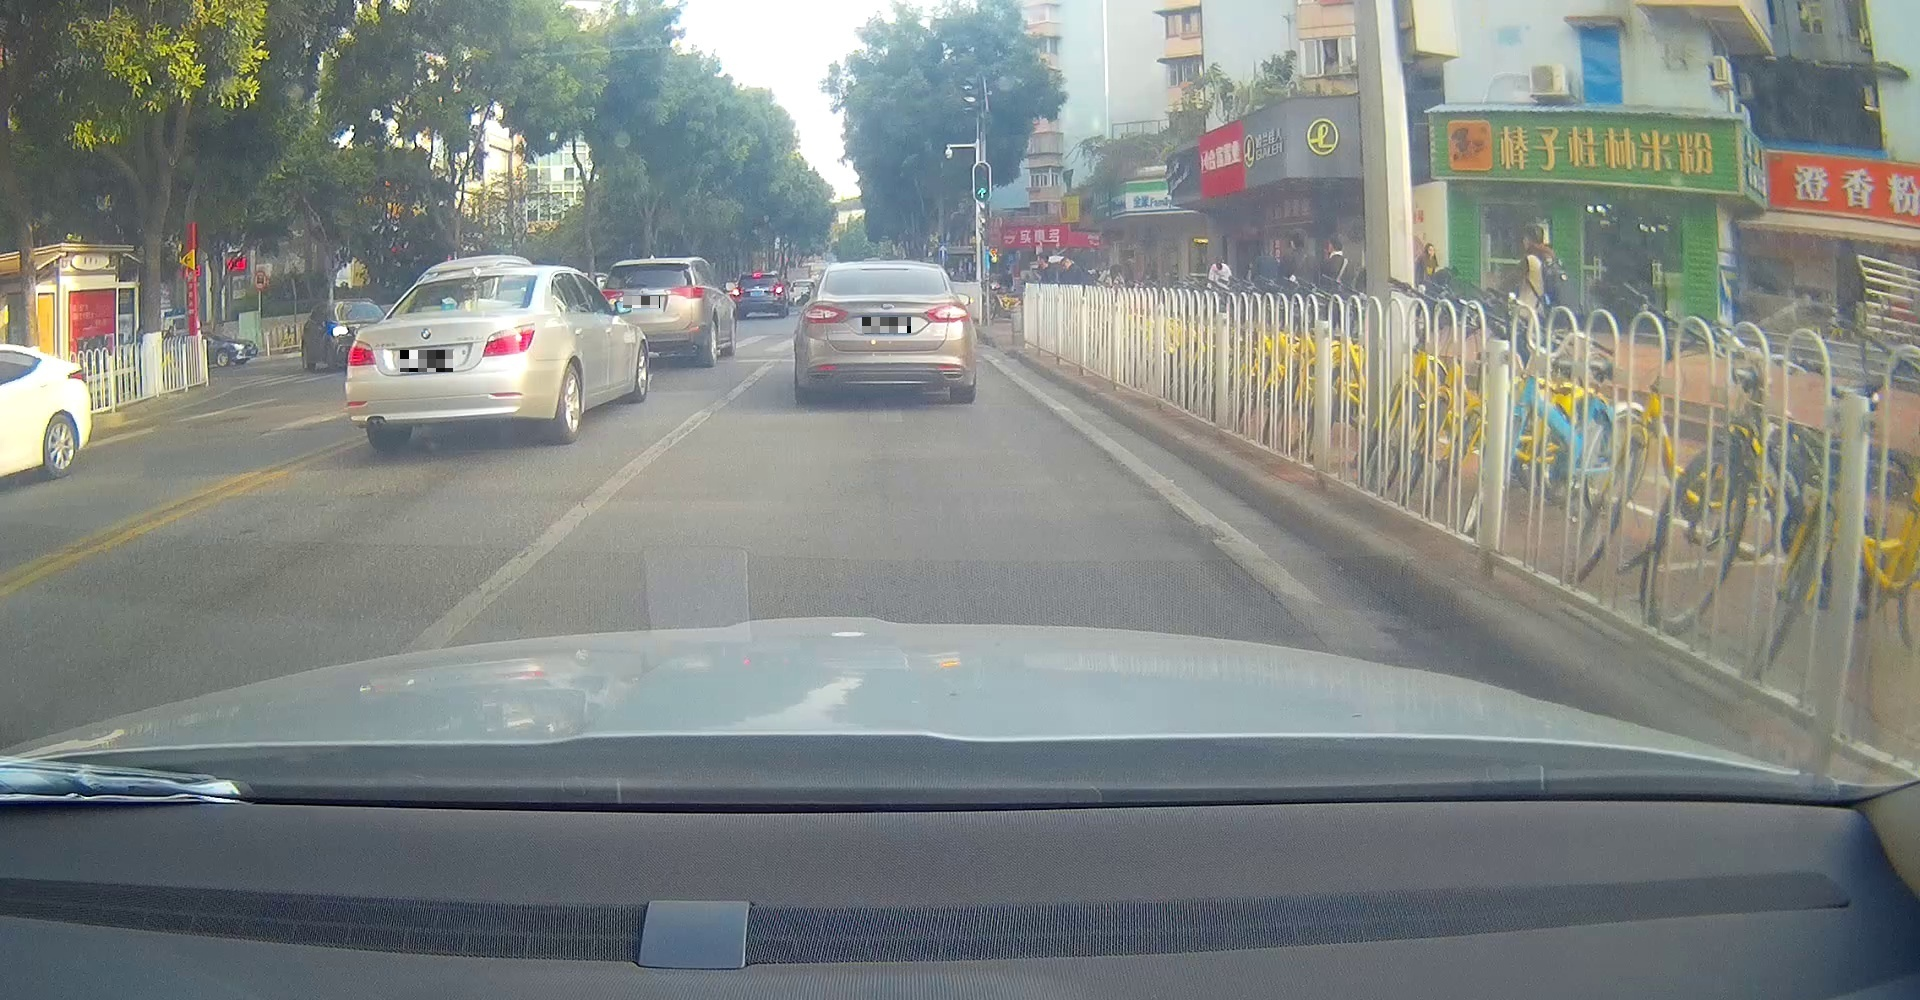L_light: (801, 305, 848, 325), (345, 339, 378, 365), (601, 291, 622, 303), (730, 286, 744, 298)
R_light: (481, 322, 537, 357), (924, 303, 970, 322), (665, 286, 703, 299), (772, 283, 785, 296)
T_light: (862, 264, 908, 272), (460, 274, 491, 280), (637, 261, 660, 266), (750, 272, 762, 279)
day-brake: (730, 272, 787, 319)
day-no: (343, 266, 546, 452), (794, 260, 978, 404), (599, 259, 707, 369)
plate_1: (400, 350, 453, 372)
plate_2: (623, 296, 660, 308)
plate_3: (862, 317, 910, 332)
